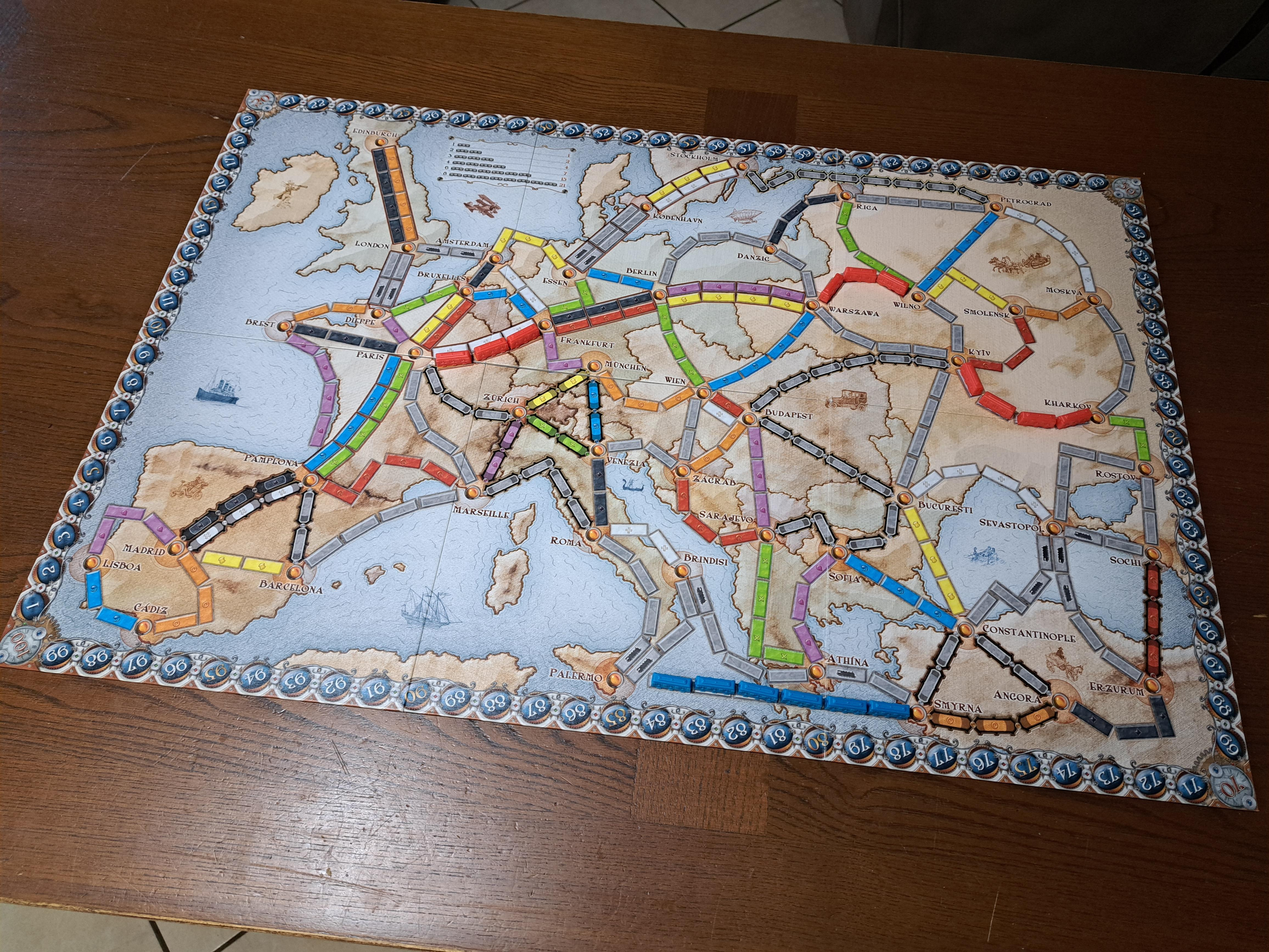corner_br: (1208, 762, 1259, 810)
corner_tl: (239, 89, 278, 116)
corner_tr: (1111, 176, 1144, 201)
